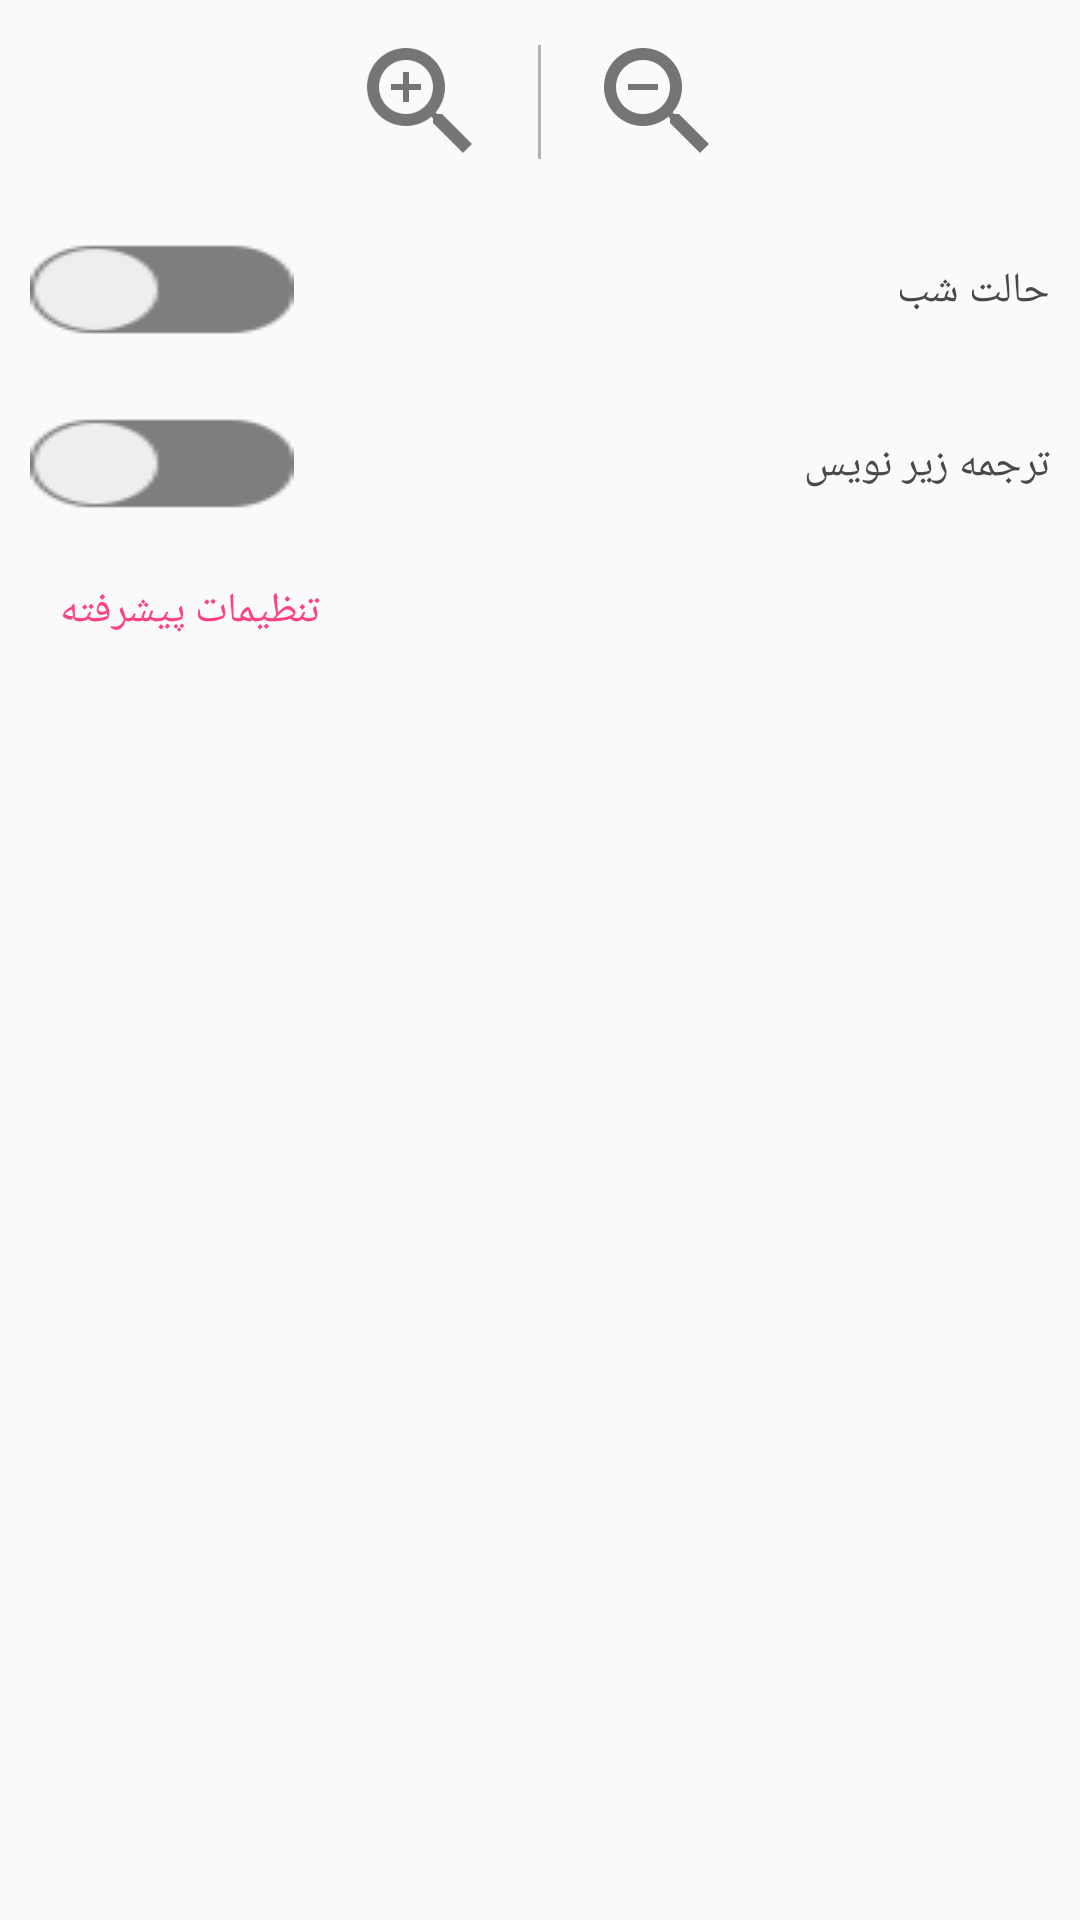

Screen size 1080 x 1920. Icon name, then its box in pixels as (x1, y1, x2, y2):
zoom in: (367, 48, 472, 153)
zoom out: (604, 48, 709, 153)
